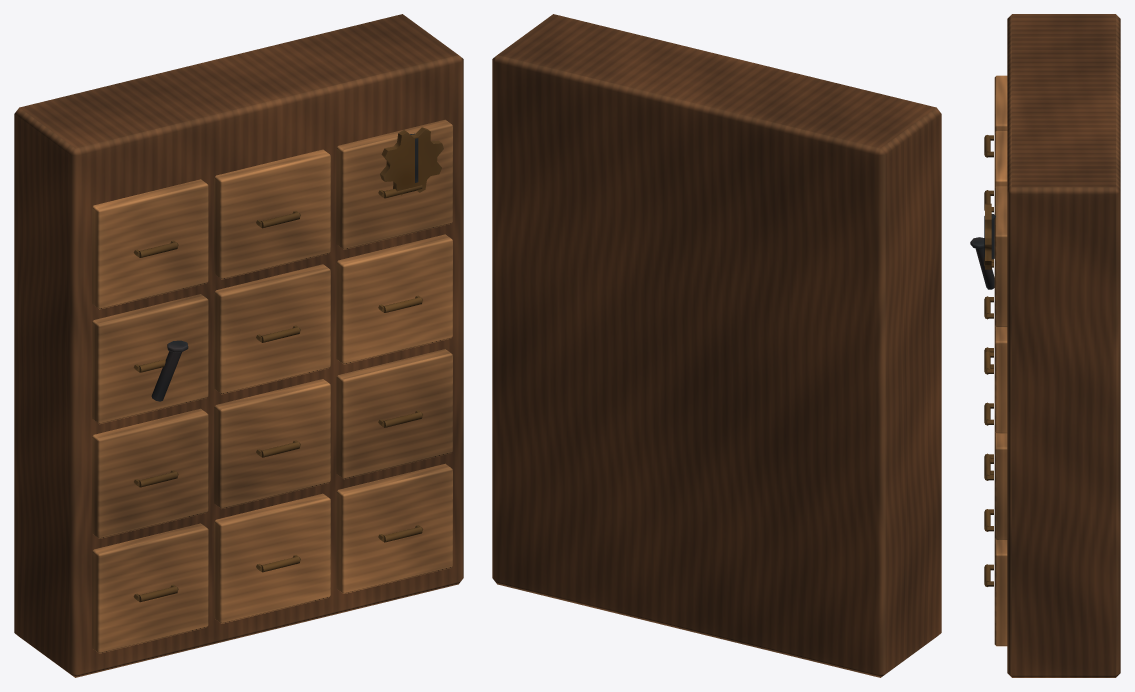
Rendered from Furn_Tool_PartsDrawers.fbx.
The picture shows the model from 3 angles, left to right: view 1: azimuth 30°, elevation 25°; view 2: azimuth 150°, elevation 25°; view 3: azimuth 270°, elevation 25°; orthographic projection. The views are drawn at different scales.
Parts seen in each view (by area): view 1: Furn_Tool_PartsDrawers; view 2: Furn_Tool_PartsDrawers; view 3: Furn_Tool_PartsDrawers.
Part boxes in pixels (x1=…): Furn_Tool_PartsDrawers: x1=14, y1=14, x2=463, y2=677; Furn_Tool_PartsDrawers: x1=492, y1=14, x2=941, y2=677; Furn_Tool_PartsDrawers: x1=970, y1=14, x2=1120, y2=677.
Size of the model in its own units: 1.4 by 1.8 by 0.5.
4 materials, 4 textured.
